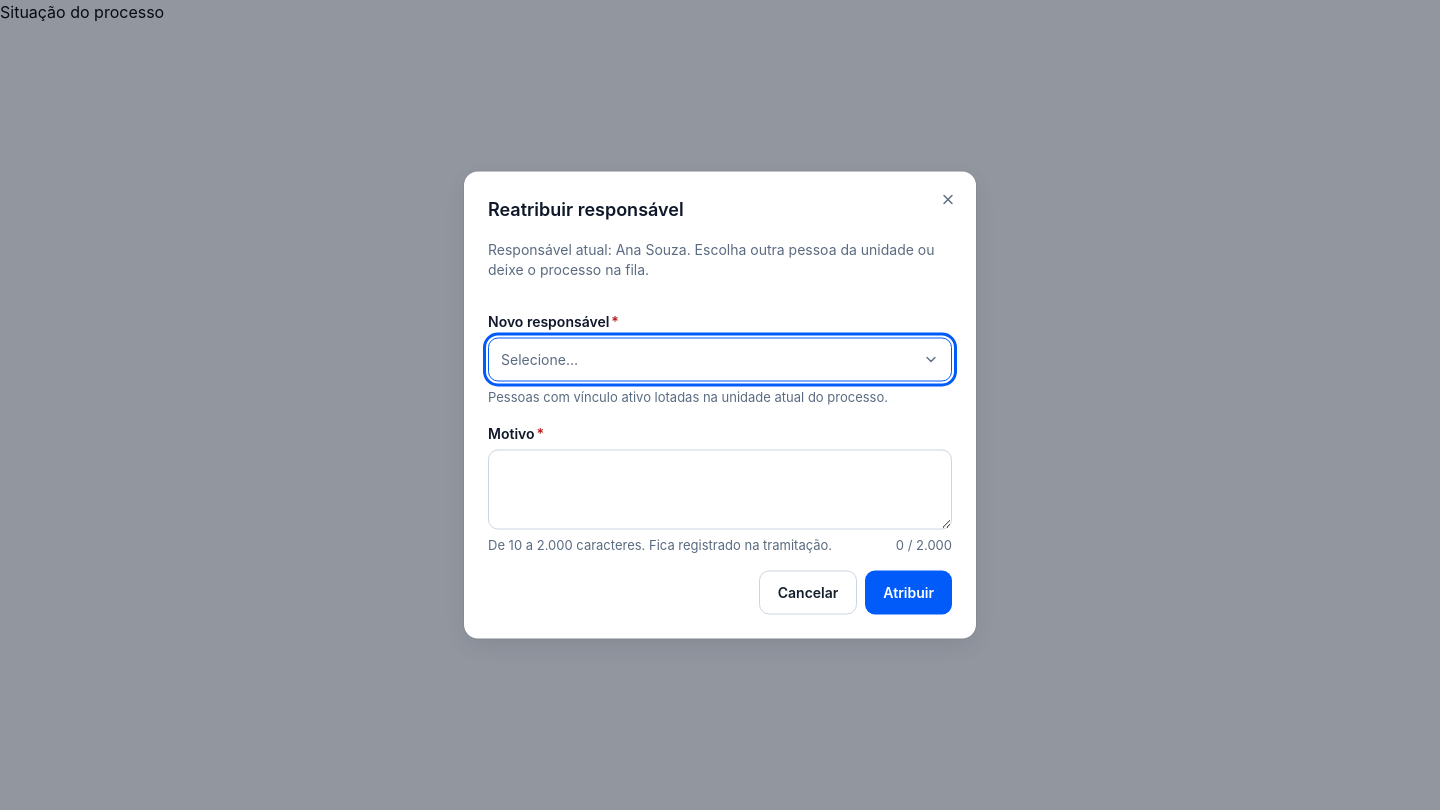
Test case: SCR-115 · Diálogo "Atribuir responsável" (US-050) › [FA-02] deixar na fila da unidade envia assigneeId null e avisa
Click the dropdown named "Novo responsável" at (540, 359), box [488,338,952,382]
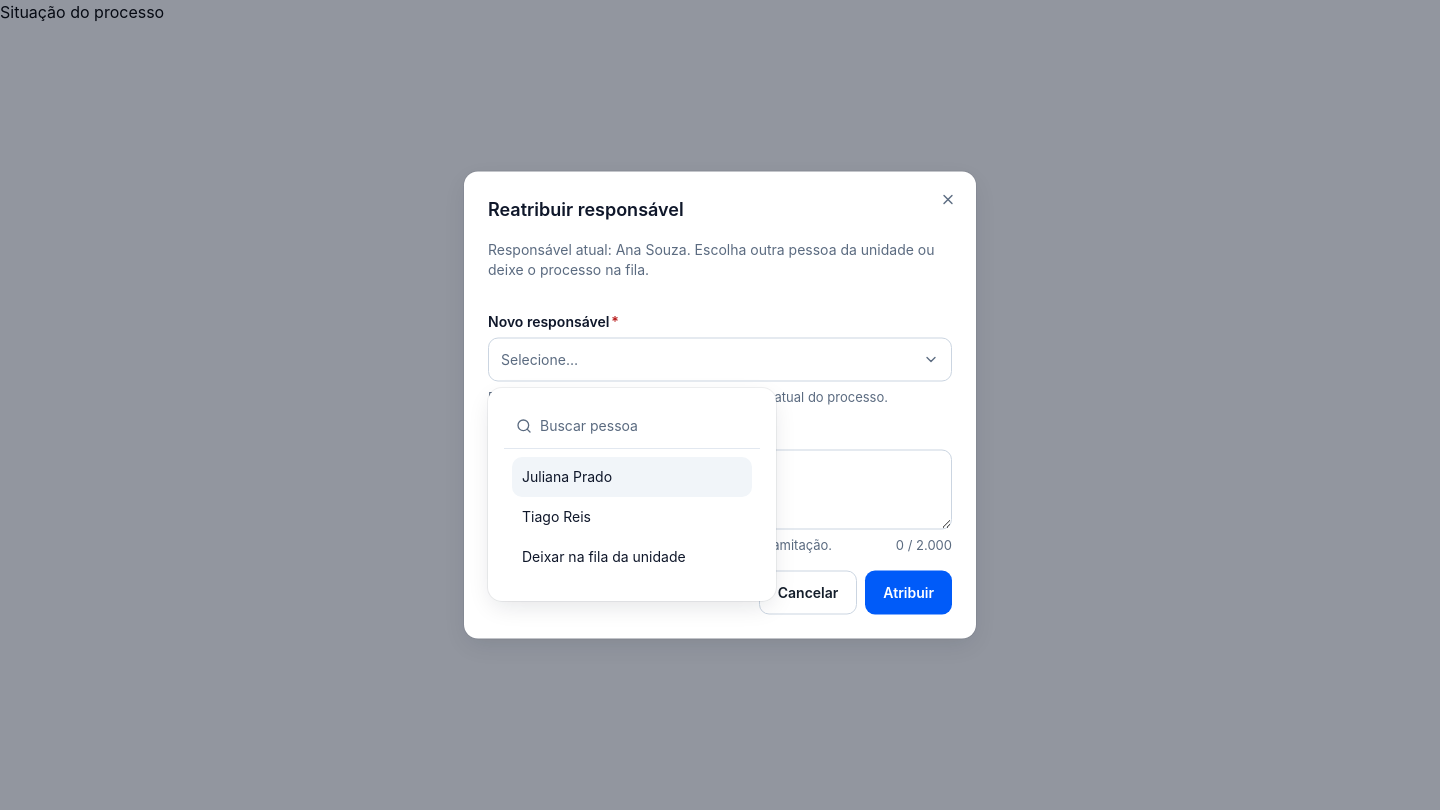
Click the option "Deixar na fila da unidade" at (604, 556), box [522,548,686,565]
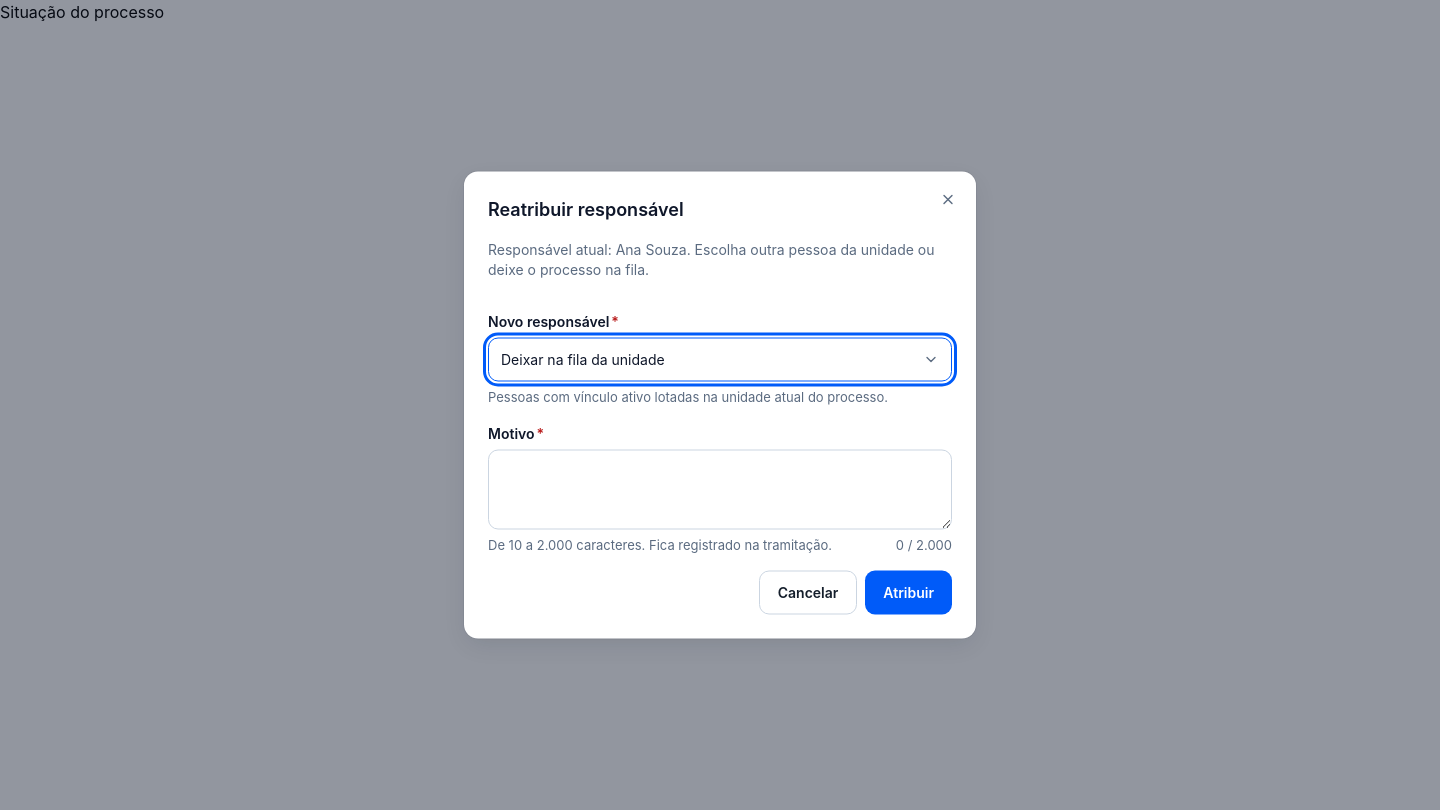
Type "Redistribuir na equipe" into the text box labelled "Motivo" at (720, 489), box [488,449,952,529]
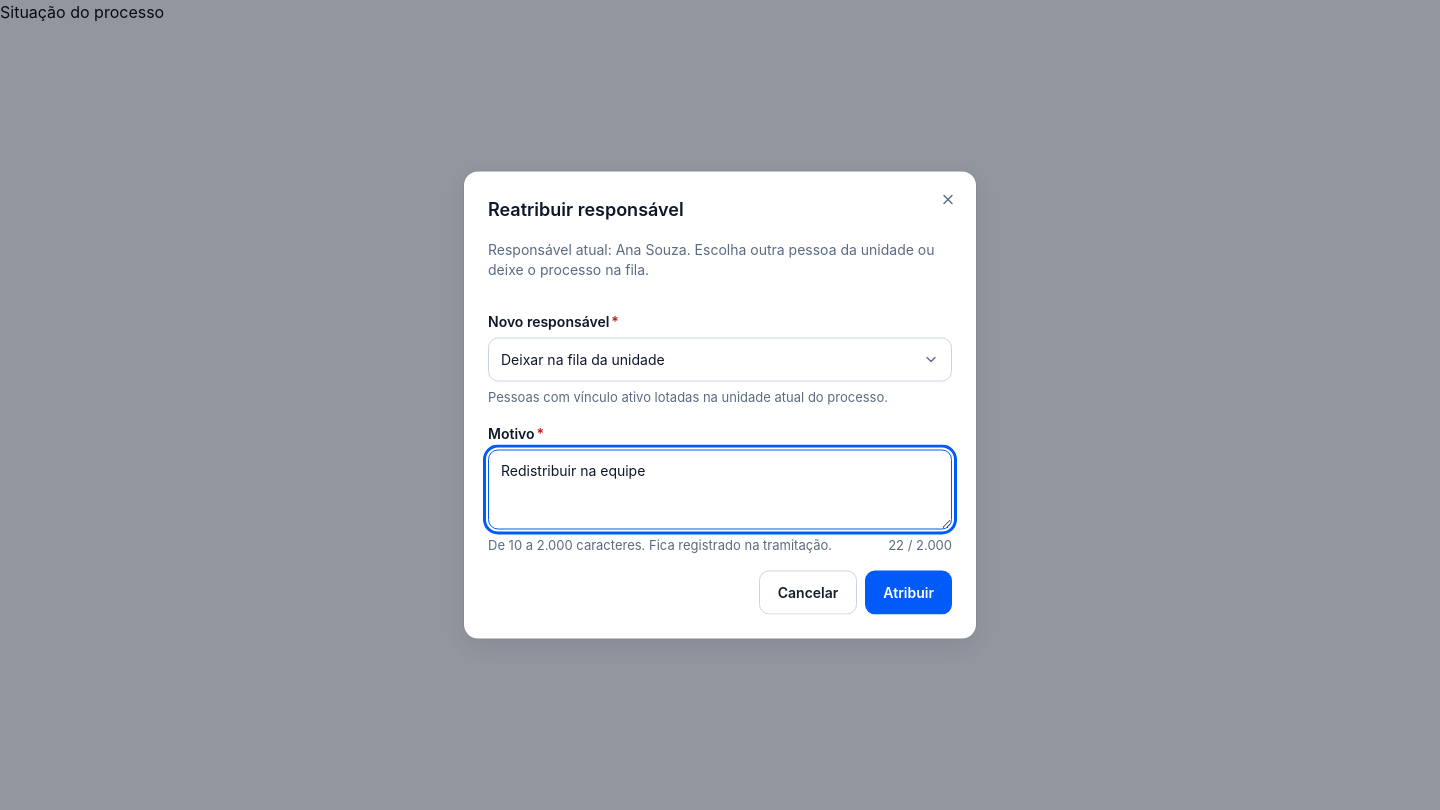
Click the button "Atribuir" at (909, 592), box [865,570,952,614]
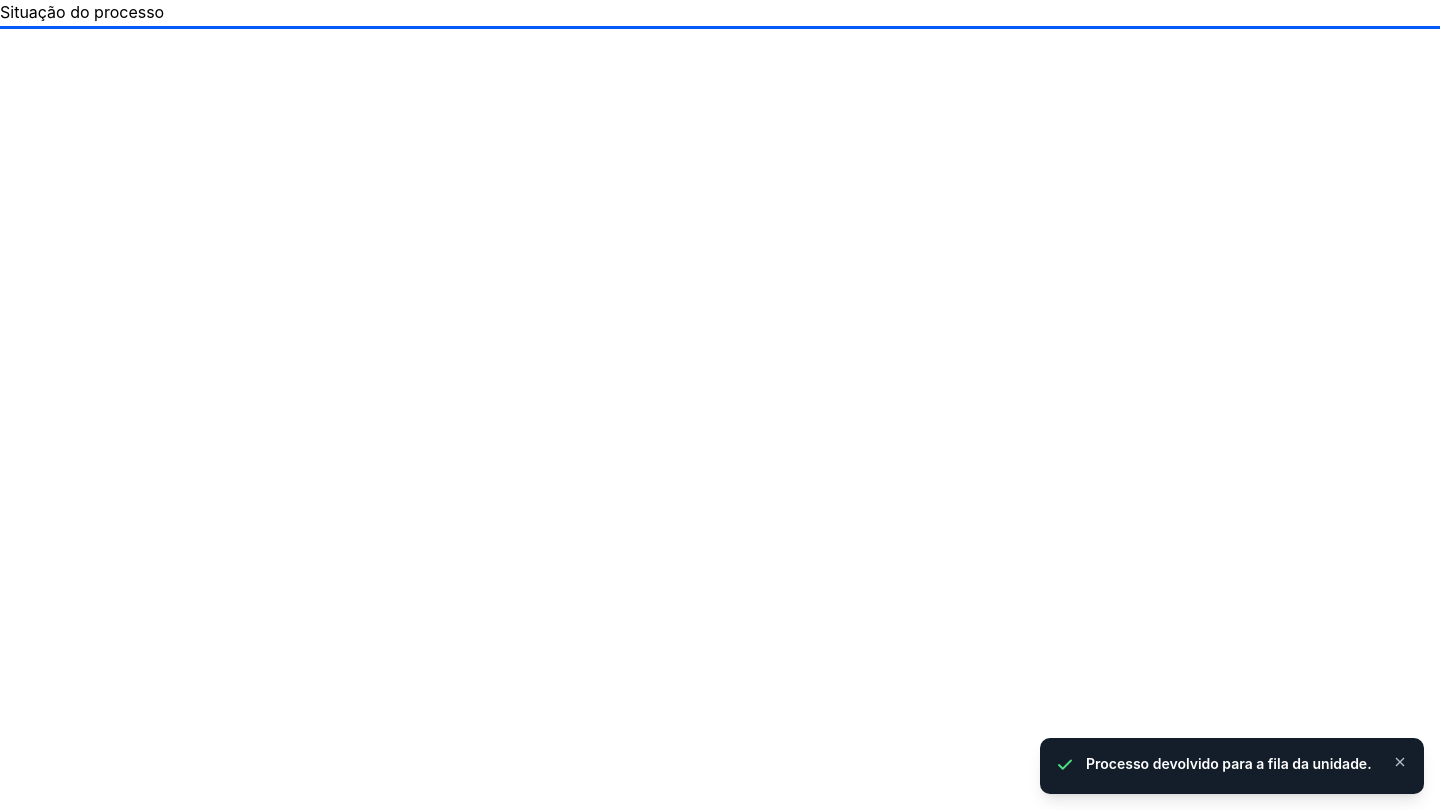
Now the text "Processo devolvido para a fila da unidade." is shown, box [1086,754,1376,774]
